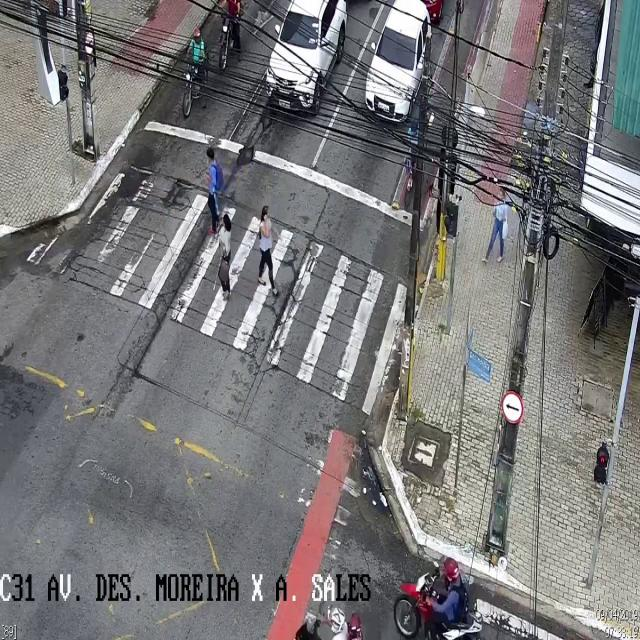Car: (265, 0, 352, 111), (364, 1, 432, 119)
Motorcycle: (393, 558, 483, 639), (214, 0, 245, 76), (181, 28, 207, 118)
